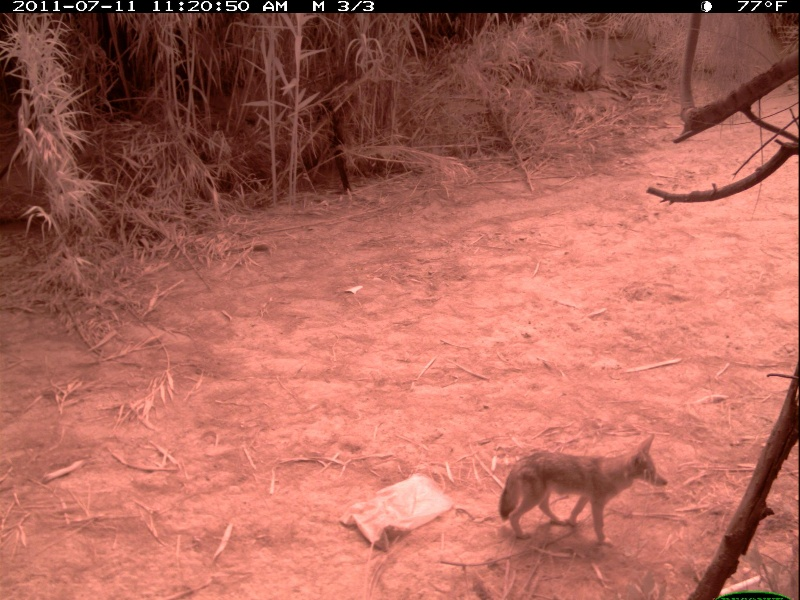coyote: (498, 433, 670, 548)
